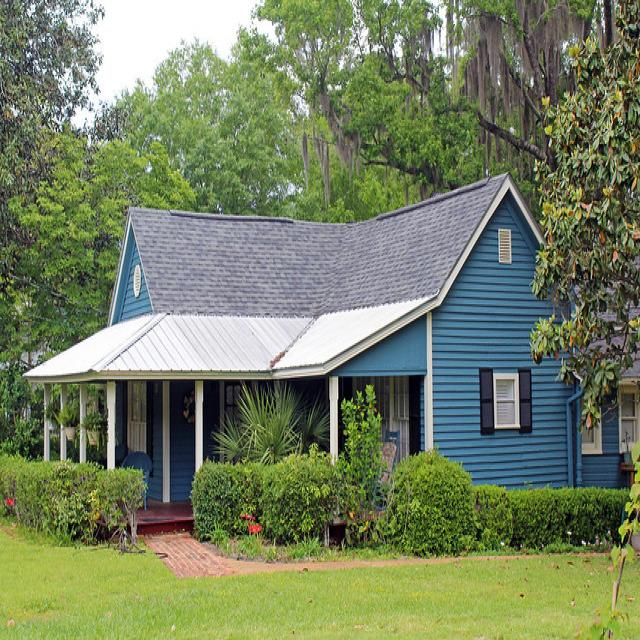building: (21, 170, 632, 554)
